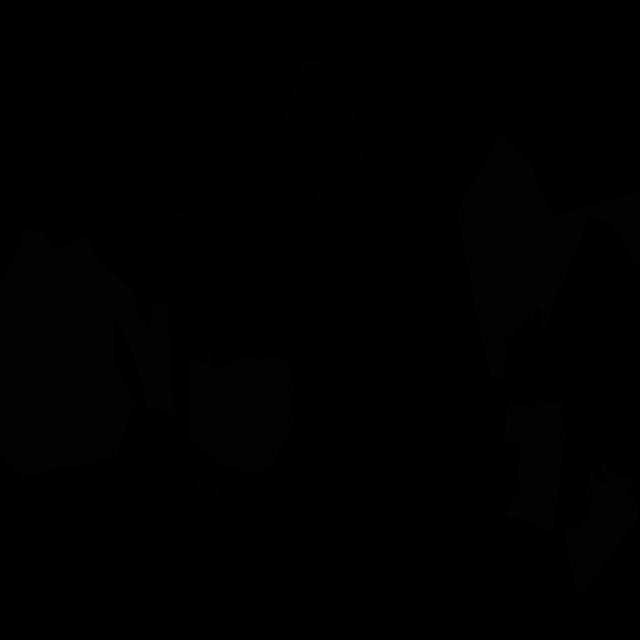cardboard: (0, 228, 174, 480), (188, 353, 294, 474), (563, 461, 640, 602), (504, 401, 568, 532), (553, 190, 640, 281)
rigid_plastic: (134, 201, 223, 517), (280, 57, 374, 217)
